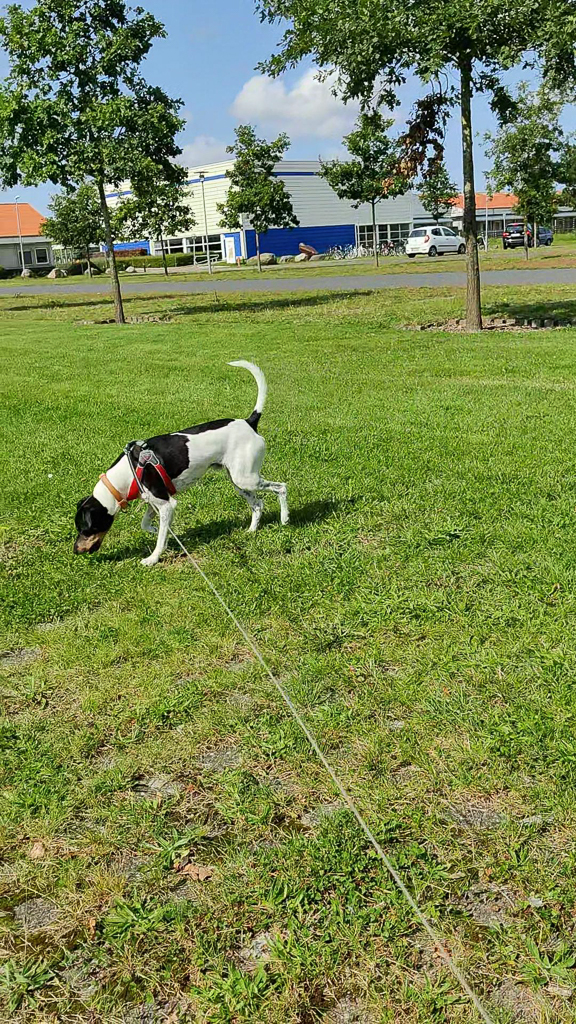Dog: (60, 353, 300, 579)
